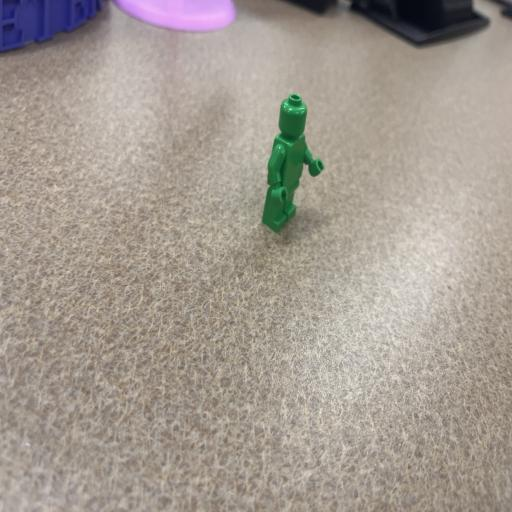Lego-Minifig: (262, 94, 324, 232)
